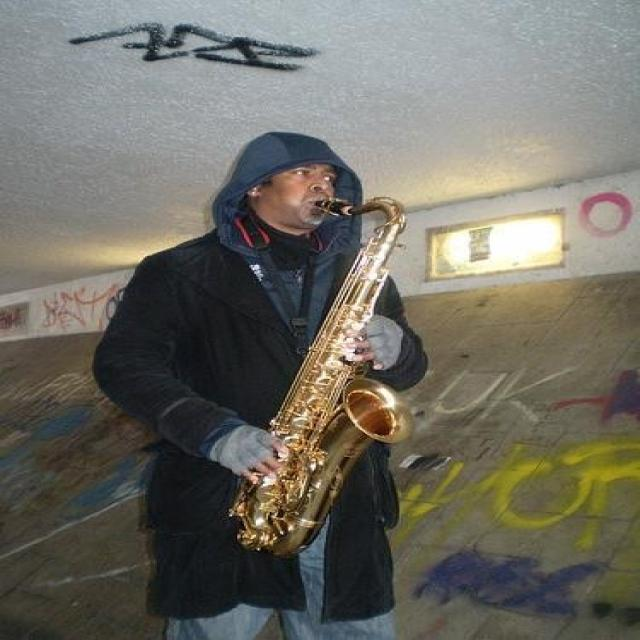saxophone: (224, 190, 414, 556)
